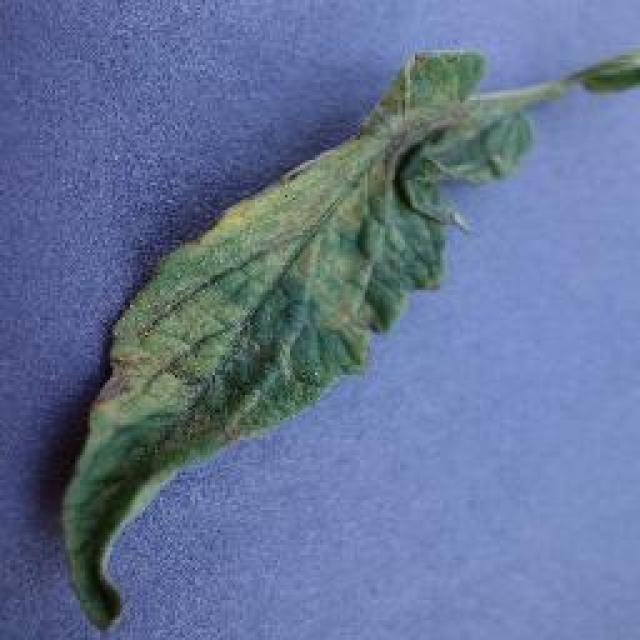Tomato___Leaf_Mold: (62, 50, 638, 625)
